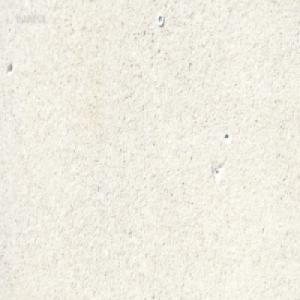Washer: (156, 13, 164, 28)
